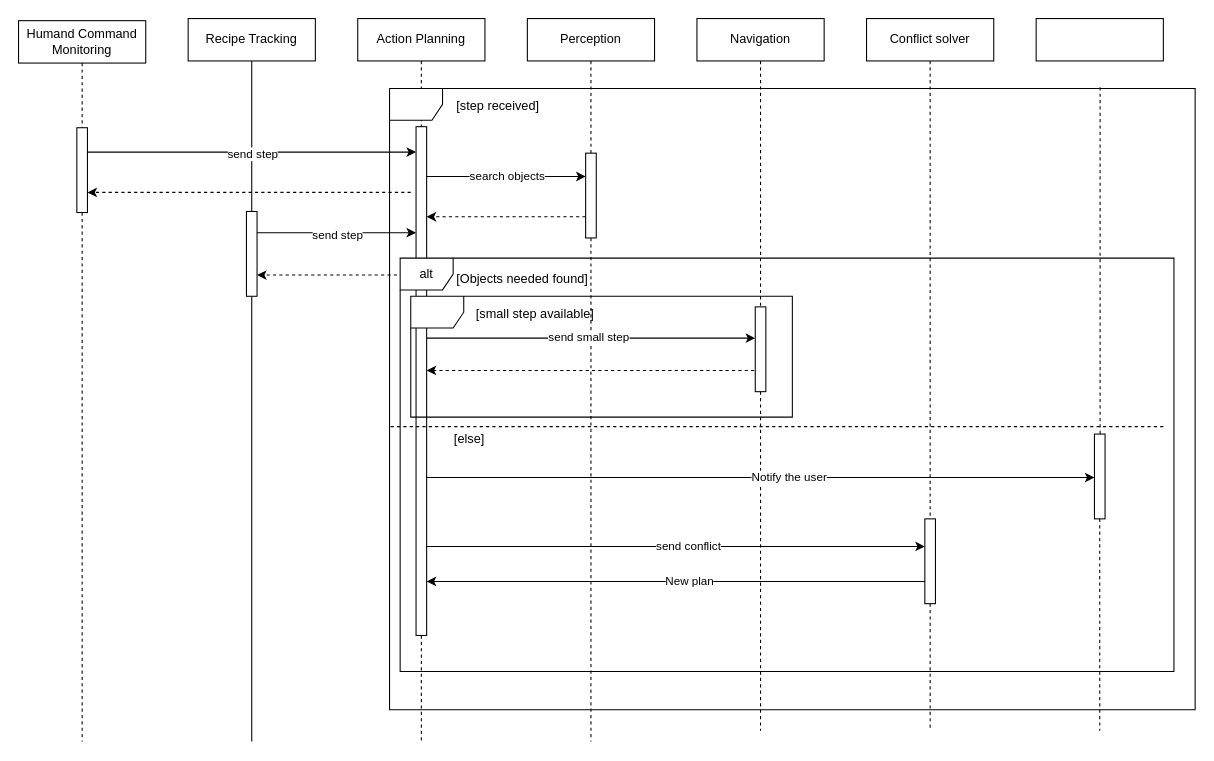
Image size: 1214x761. Some labels were removed from this diagram. Here are the shapes that lost their labels. From the top down, the box of each, then its label:
(1035, 17, 1163, 61): Speaker
(410, 295, 792, 417): loop
(388, 87, 1195, 710): Opt
